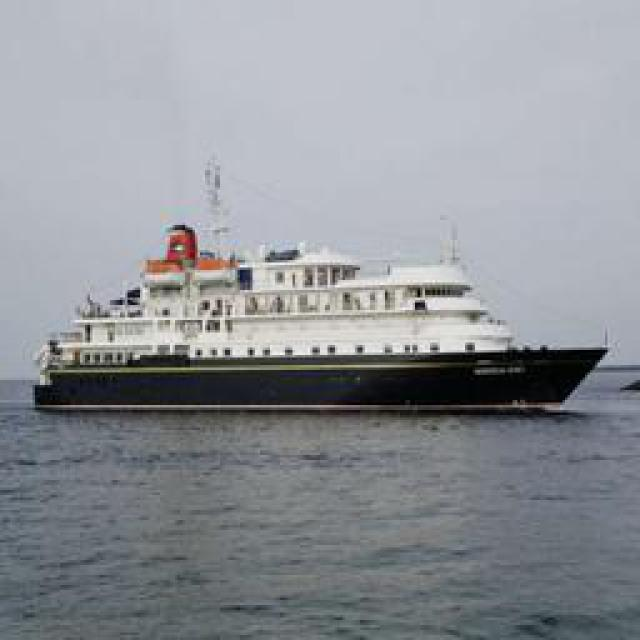Ship: (39, 206, 622, 419)
